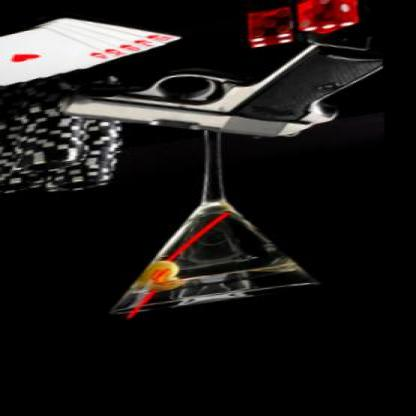pistol: (48, 26, 397, 172)
